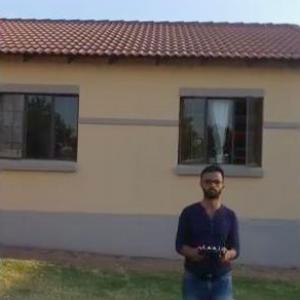follow: (172, 159, 242, 299)
